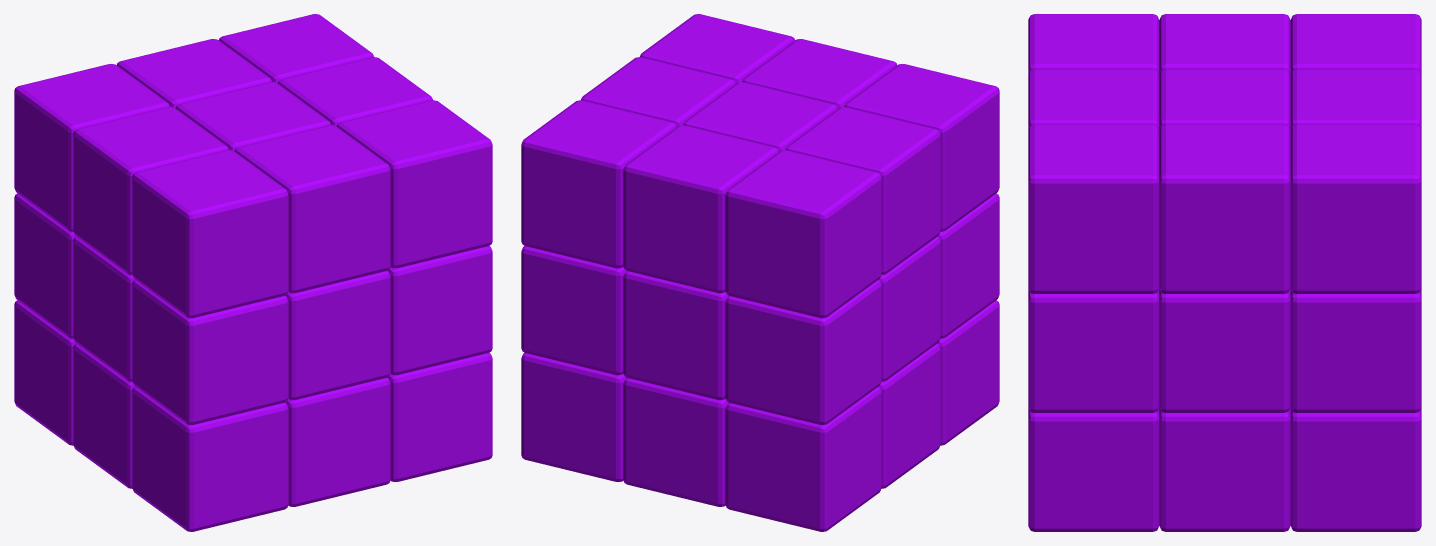
Rendered from Ordiks_Cube_Face_Mats_by_vGroup_02_temp.glb.
The picture shows the model from 3 angles, left to right: view 1: azimuth 30°, elevation 25°; view 2: azimuth 150°, elevation 25°; view 3: azimuth 270°, elevation 25°; orthographic projection. The views are drawn at different scales.
Parts seen in each view (by area): view 1: -1,1,1, -1,-1,1, -1,0,1, 0,1,1, 1,1,1, -1,1-1, -1,1,0, 1,0,1, 0,0,1, 1,-1,1, 0,-1,1, -1,-1,-1 (+7 smaller); view 2: -1,1-1, -1,-1,-1, -1,0,-1, 0,1,-1, 1,1,-1, -1,1,1, -1,1,0, 1,0,-1, 0,0,-1, 1,-1,-1, 0,-1,-1, -1,-1,1 (+7 smaller); view 3: 1,1,1, 1,1,0, 1,1,-1, 1,0,0, 1,0,-1, 1,-1,0, 1,0,1, 1,-1,1, 1,-1,-1, -1,1,0, 0,1,1, 0,1,-1 (+3 smaller).
Part boxes in pixels (x1=…): -1,1,1: x1=132, y1=150, x2=288, y2=318; -1,-1,1: x1=132, y1=386, x2=288, y2=531; -1,0,1: x1=132, y1=280, x2=288, y2=424; 0,1,1: x1=234, y1=125, x2=390, y2=293; 1,1,1: x1=336, y1=100, x2=492, y2=268; -1,1-1: x1=14, y1=64, x2=169, y2=231; -1,1,0: x1=73, y1=107, x2=228, y2=274; 1,0,1: x1=387, y1=246, x2=492, y2=375; 0,0,1: x1=285, y1=271, x2=390, y2=400; 1,-1,1: x1=387, y1=352, x2=492, y2=481; 0,-1,1: x1=285, y1=377, x2=390, y2=506; -1,-1,-1: x1=14, y1=300, x2=76, y2=445; -1,1-1: x1=725, y1=150, x2=881, y2=318; -1,-1,-1: x1=725, y1=386, x2=881, y2=531; -1,0,-1: x1=725, y1=280, x2=881, y2=424; 0,1,-1: x1=623, y1=125, x2=779, y2=293; 1,1,-1: x1=521, y1=100, x2=677, y2=268; -1,1,1: x1=844, y1=64, x2=999, y2=231; -1,1,0: x1=785, y1=107, x2=940, y2=274; 1,0,-1: x1=521, y1=246, x2=626, y2=375; 0,0,-1: x1=623, y1=271, x2=728, y2=400; 1,-1,-1: x1=521, y1=352, x2=626, y2=481; 0,-1,-1: x1=623, y1=377, x2=728, y2=506; -1,-1,1: x1=937, y1=300, x2=999, y2=445; 1,1,1: x1=1028, y1=125, x2=1159, y2=293; 1,1,0: x1=1159, y1=125, x2=1290, y2=293; 1,1,-1: x1=1290, y1=125, x2=1421, y2=293; 1,0,0: x1=1159, y1=288, x2=1290, y2=412; 1,0,-1: x1=1290, y1=288, x2=1421, y2=412; 1,-1,0: x1=1159, y1=407, x2=1290, y2=531; 1,0,1: x1=1028, y1=289, x2=1159, y2=412; 1,-1,1: x1=1028, y1=407, x2=1159, y2=531; 1,-1,-1: x1=1290, y1=407, x2=1421, y2=531; -1,1,0: x1=1159, y1=14, x2=1290, y2=74; 0,1,1: x1=1028, y1=69, x2=1159, y2=130; 0,1,-1: x1=1290, y1=69, x2=1421, y2=130.
Bounding box in the file's own units: 3 × 3 × 3.
